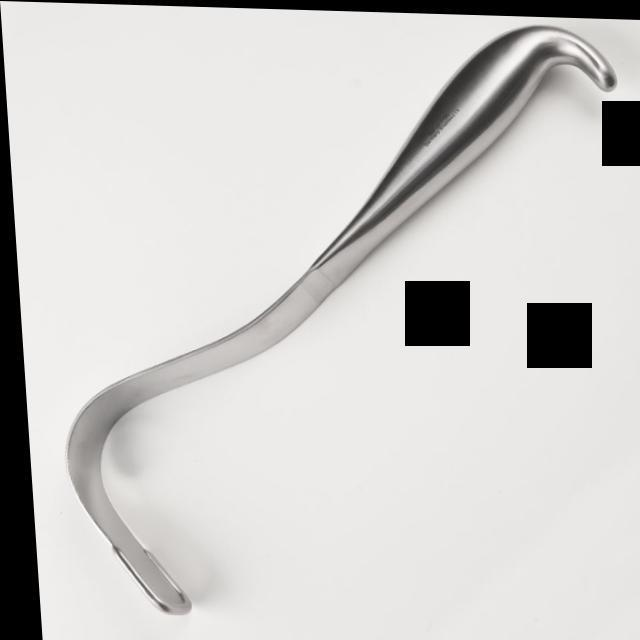Hrrington retractor: (31, 6, 640, 628)
